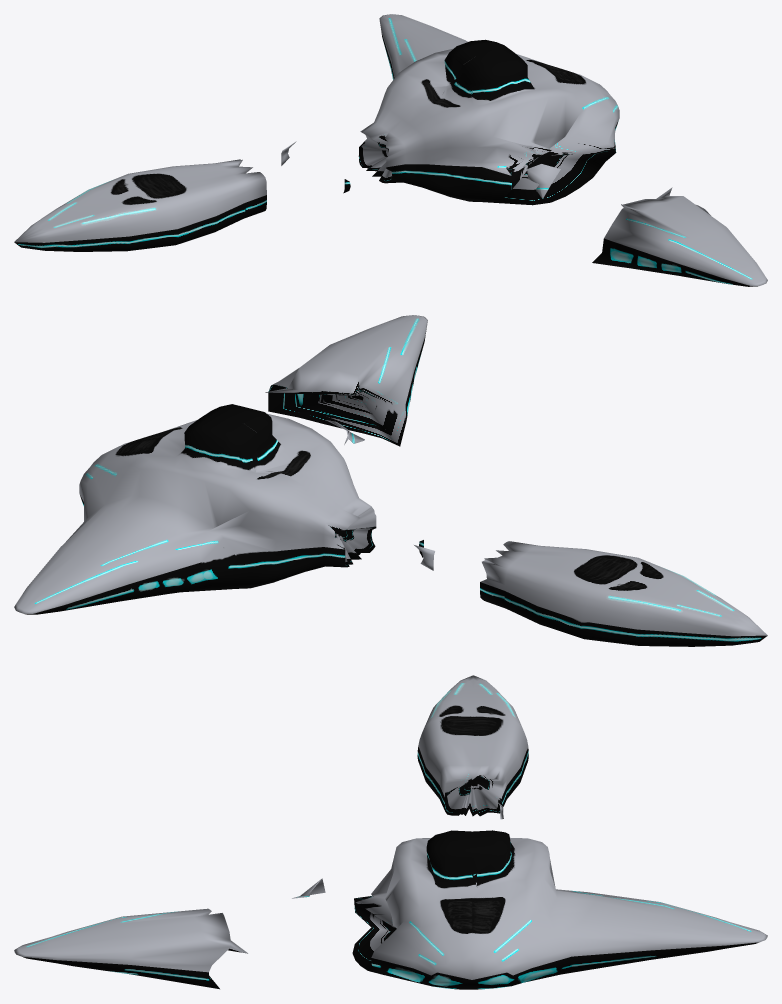
File: The Ship.fbx
3 views of the same model, one above another, from view 1: azimuth 30°, elevation 25°; view 2: azimuth 150°, elevation 25°; view 3: azimuth 270°, elevation 25° (orthographic). The views are drawn at different scales.
Parts seen in each view (by area): view 1: Cube, Cube.001, Cube.002, Cube.005; view 2: Cube, Cube.001, Cube.002; view 3: Cube, Cube.001, Cube.002.
Boxes of the visible parts, box(x1,y1,x2,y2) form: Cube: box(358, 14, 619, 205); Cube.001: box(14, 159, 266, 251); Cube.002: box(592, 187, 767, 286); Cube.005: box(527, 164, 560, 198); Cube: box(14, 404, 376, 614); Cube.001: box(480, 541, 767, 646); Cube.002: box(265, 315, 427, 446); Cube: box(352, 830, 767, 989); Cube.001: box(417, 675, 528, 816); Cube.002: box(14, 908, 247, 989).
Size of the model in its own units: 1956 by 2070 by 426.
